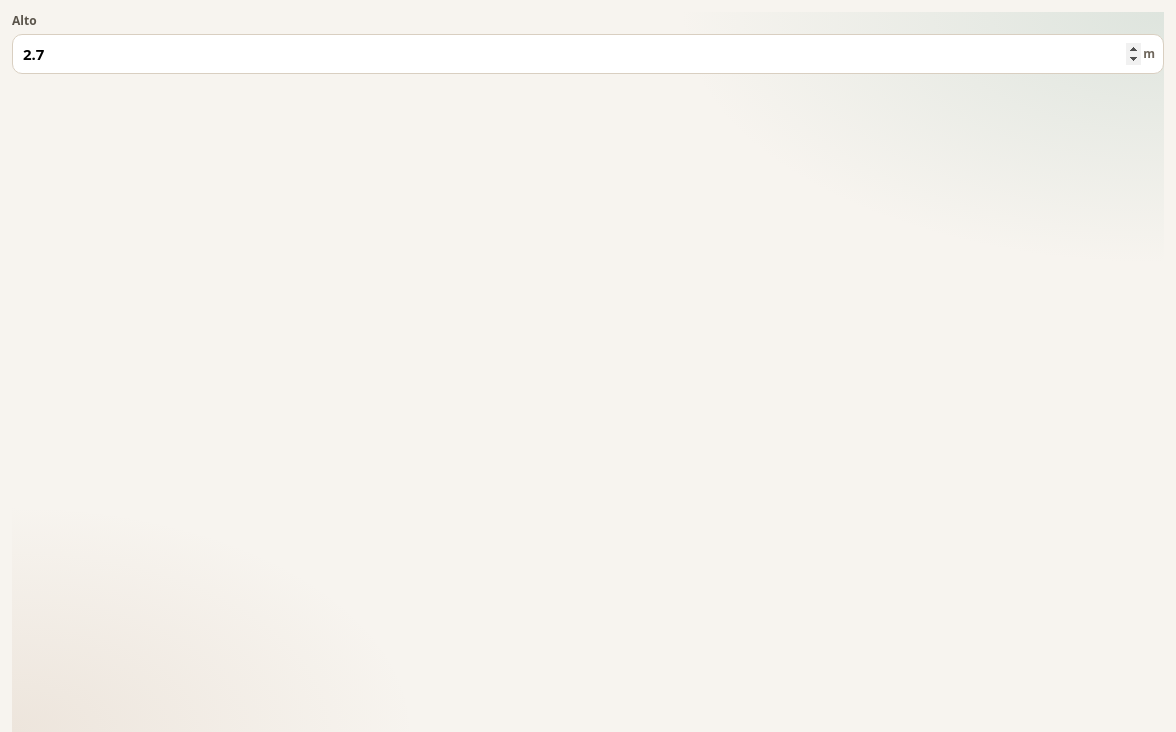
MeasureInput › restores the value when the text is not a number
The width and height of the screenshot is (1176, 732).
Clear the number field labelled "Alto m" at (588, 54), box [12,34,1164,74]
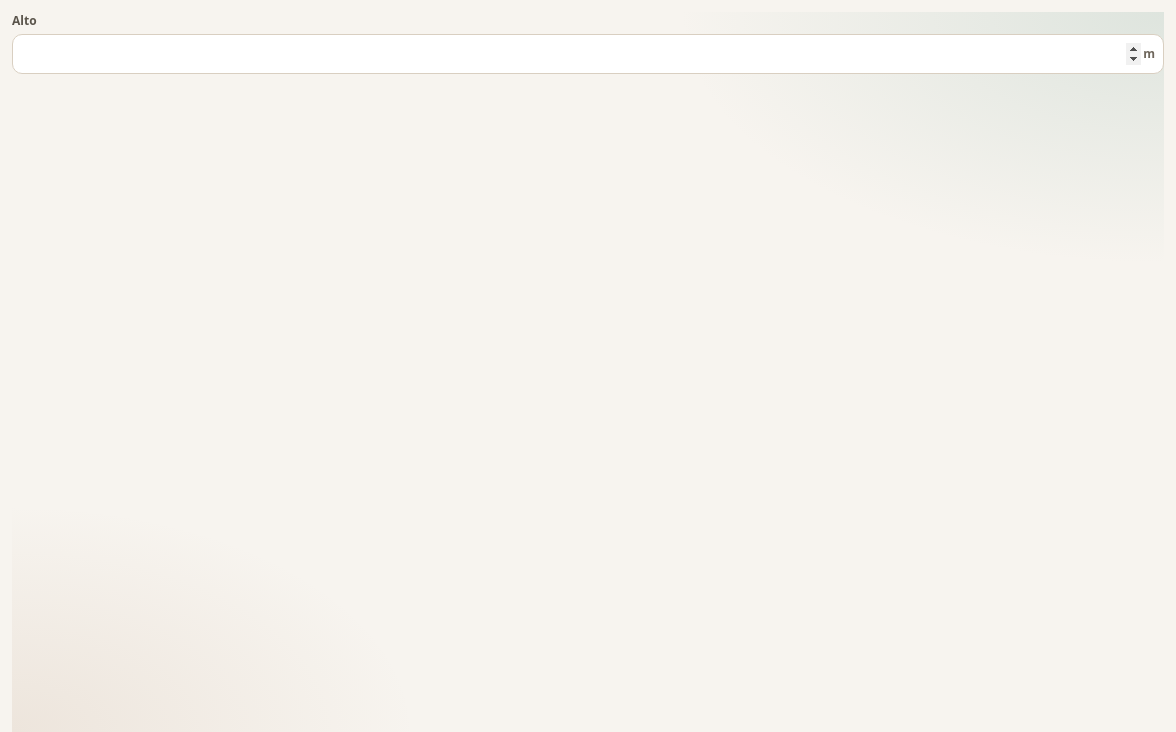
Leave the number field labelled "Alto m", box [12,34,1164,74]
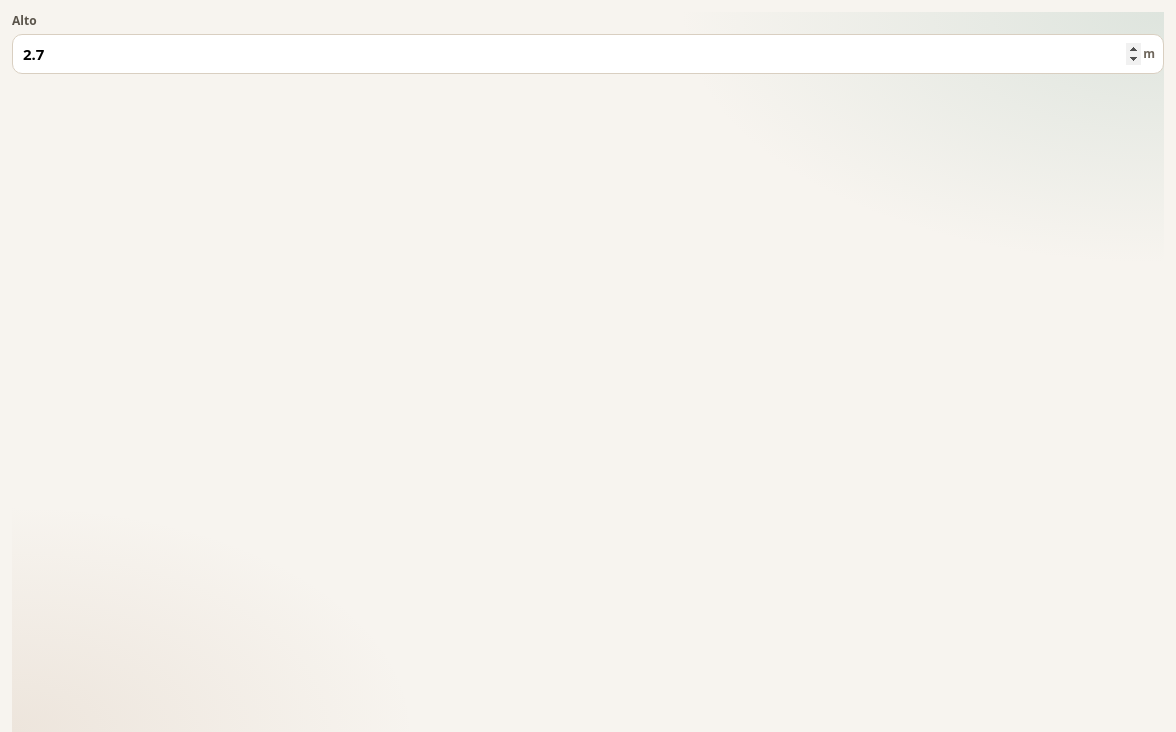
Result: the number field labelled "Alto m" holds "2.7" at [12,34,1164,74]
